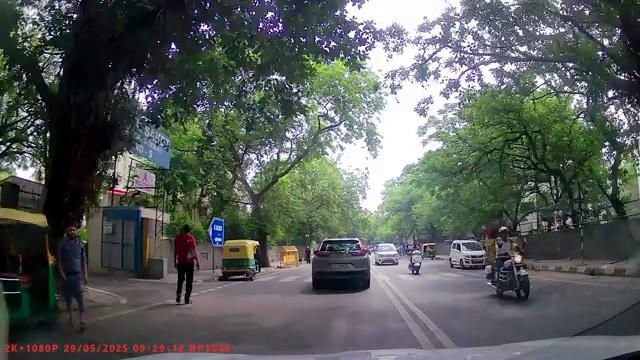motorcycle_with_helmet: (485, 226, 533, 300)
